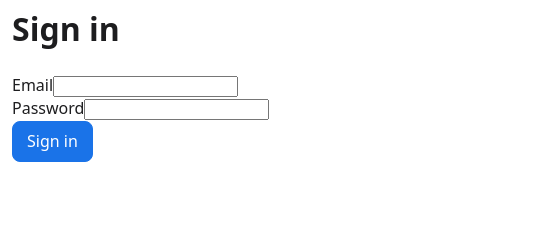
rate-limit responses show a retry time (FR-030) › the sign-in form shows how long to wait
The width and height of the screenshot is (558, 234).
Type "ana@example.com" into the field labelled "Email" at (146, 87), box [53,76,238,97]
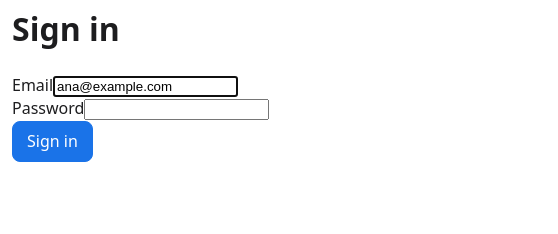
Type "correct-horse-battery-staple-42" into the password field labelled "Password" at (177, 110), box [84,100,269,120]
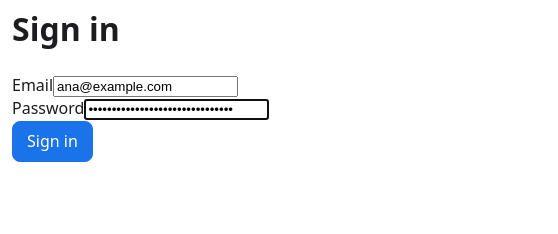
Click the button "Sign in" at (52, 141), box [12,121,93,162]
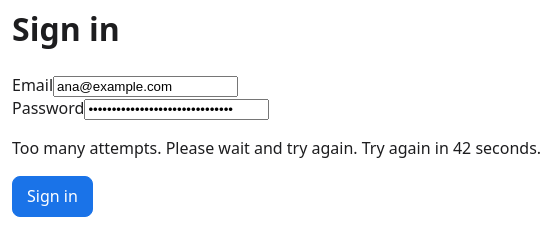
Expected: the message shows "Try again in 42 seconds.", [12,137,541,159]
